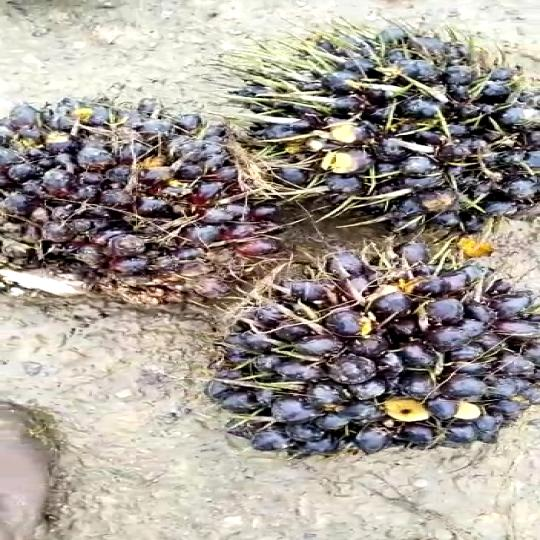mentah: (0, 89, 311, 315), (239, 34, 540, 250), (242, 232, 522, 451)
